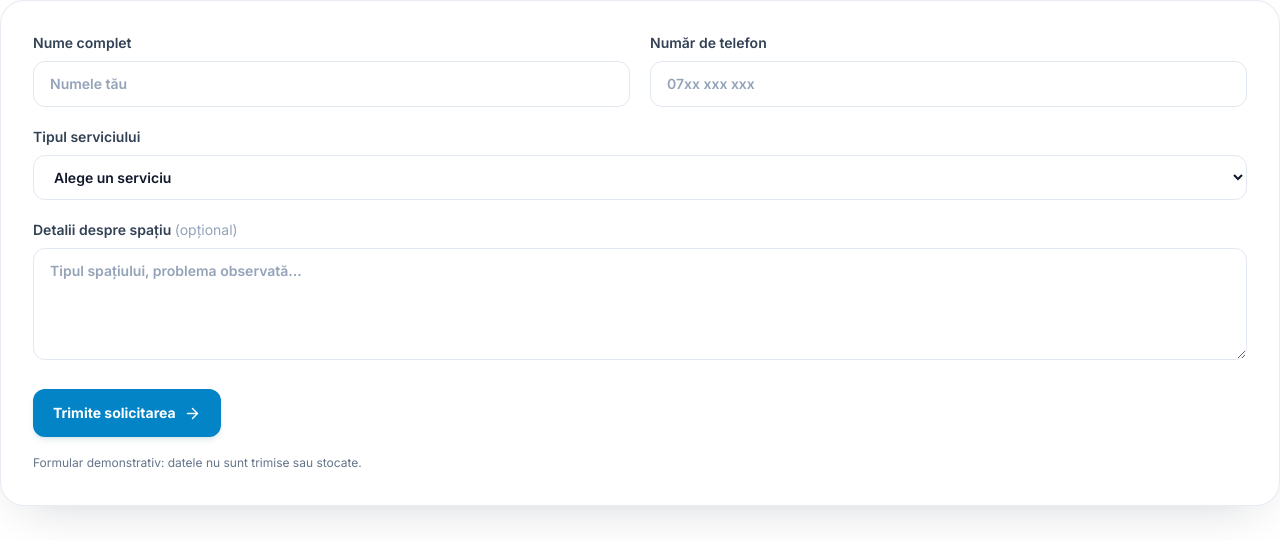
it: ContactForm › shows a confirmation that clearly says the demo request was not sent
This screenshot has width=1280, height=540.
Type "Ana Popescu" into the field labelled "Nume complet" at {"x": 332, "y": 84}, box x1=33 y1=61 x2=630 y2=107
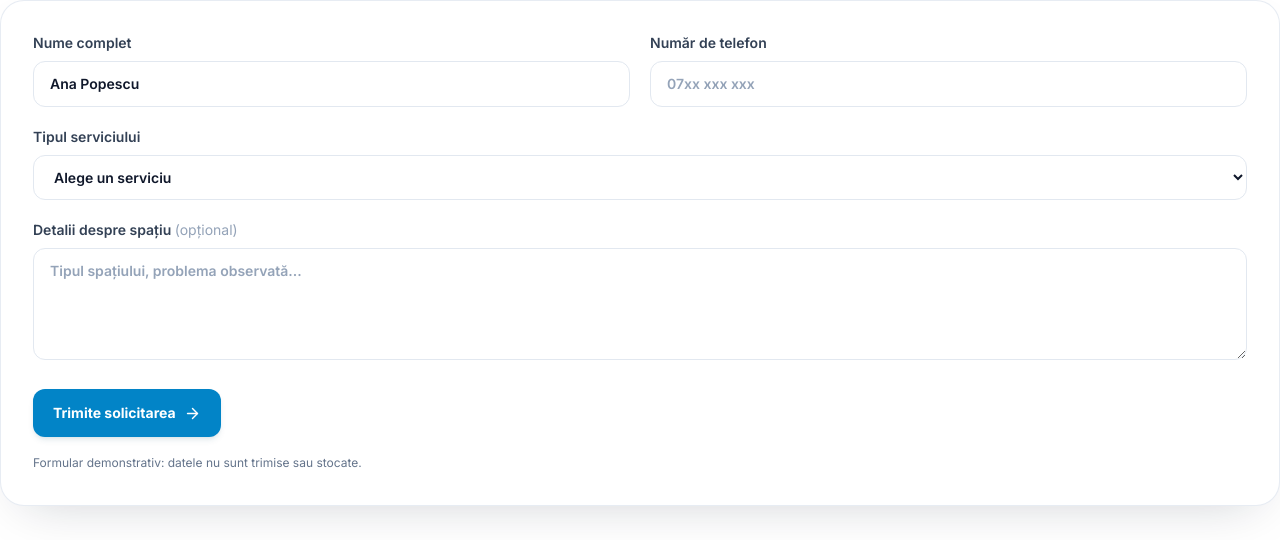
Type "0712345678" into the field labelled "Număr de telefon" at {"x": 948, "y": 84}, box x1=650 y1=61 x2=1247 y2=107
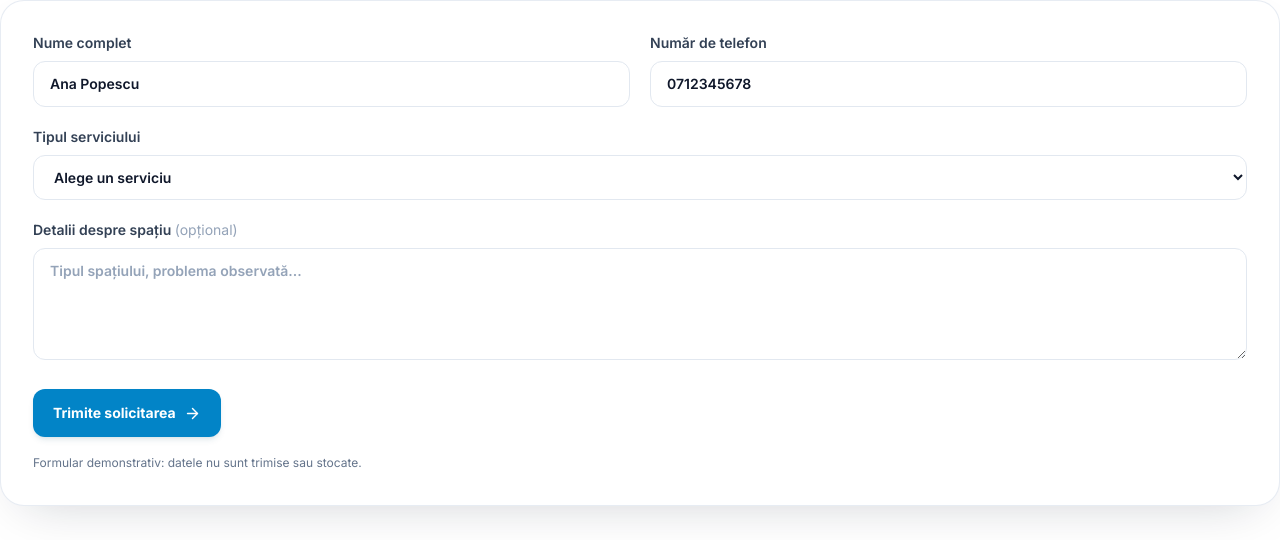
Select "Deratizare" in the dropdown labelled "Tipul serviciului" at {"x": 640, "y": 178}, box x1=33 y1=155 x2=1247 y2=200
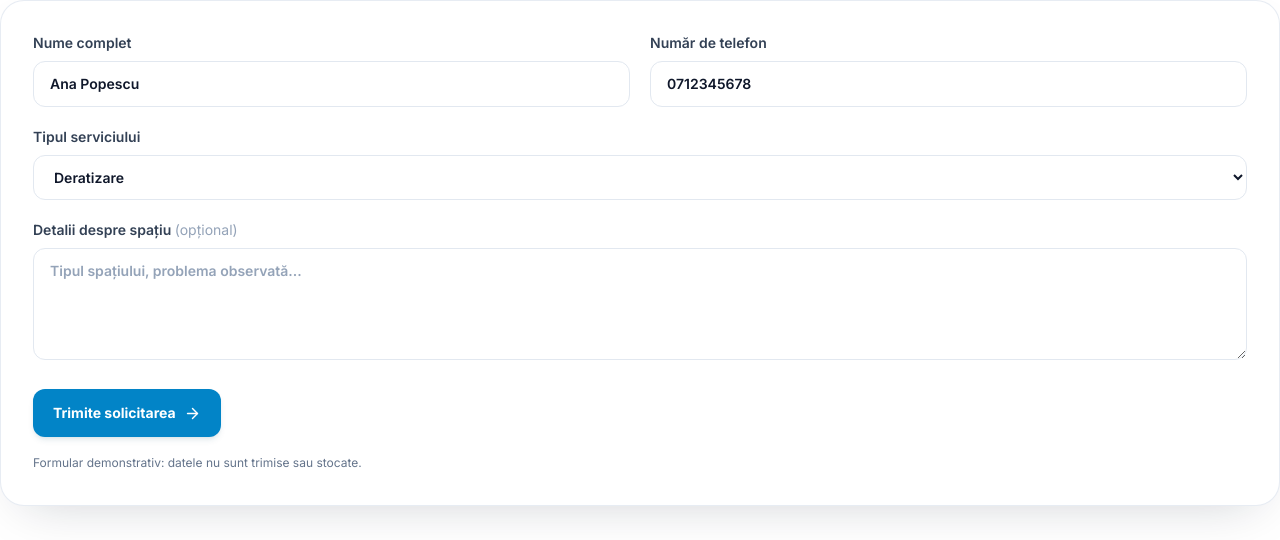
Click the button "Trimite solicitarea" at {"x": 127, "y": 413}, box x1=33 y1=389 x2=221 y2=437
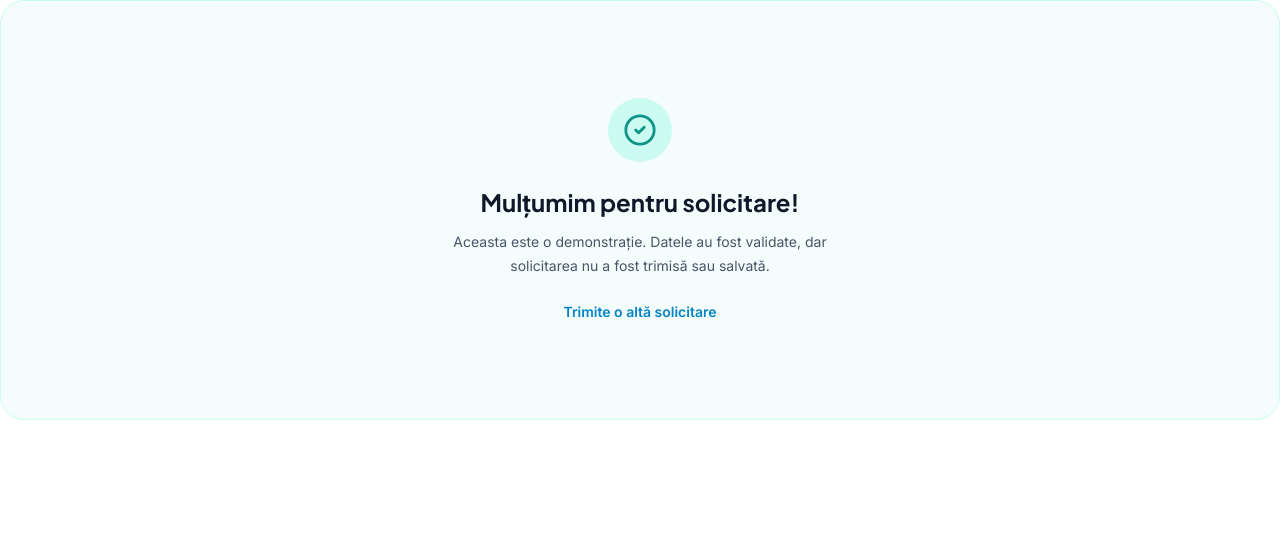
Now the message shows "Aceasta este o demonstrație.", box x1=453 y1=233 x2=827 y2=274
Now the message shows "solicitarea nu a fost trimisă sau salvată.", box x1=453 y1=233 x2=827 y2=274
